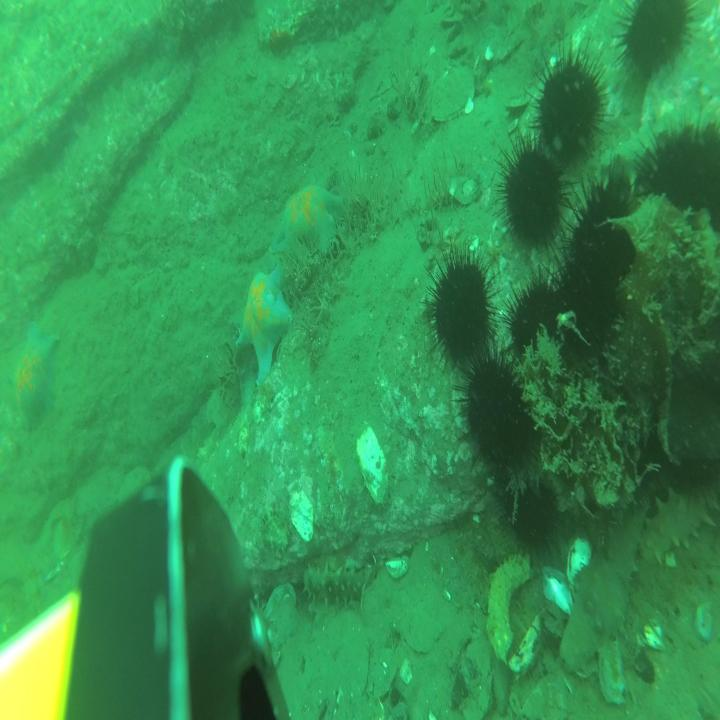echinus: (526, 34, 612, 182), (456, 336, 540, 478), (497, 128, 580, 259), (425, 237, 501, 378), (567, 164, 641, 304), (551, 240, 625, 379), (506, 263, 573, 389), (496, 464, 565, 565), (614, 0, 696, 81), (640, 116, 700, 222), (664, 411, 720, 516), (614, 412, 662, 497), (691, 116, 720, 244)
holothurian: (563, 502, 649, 678), (641, 483, 720, 570), (604, 103, 699, 170), (304, 560, 378, 609)
scallop: (431, 66, 475, 124), (264, 581, 299, 650), (120, 465, 153, 520)
starfish: (236, 261, 294, 386), (10, 320, 60, 435), (269, 183, 342, 257)
